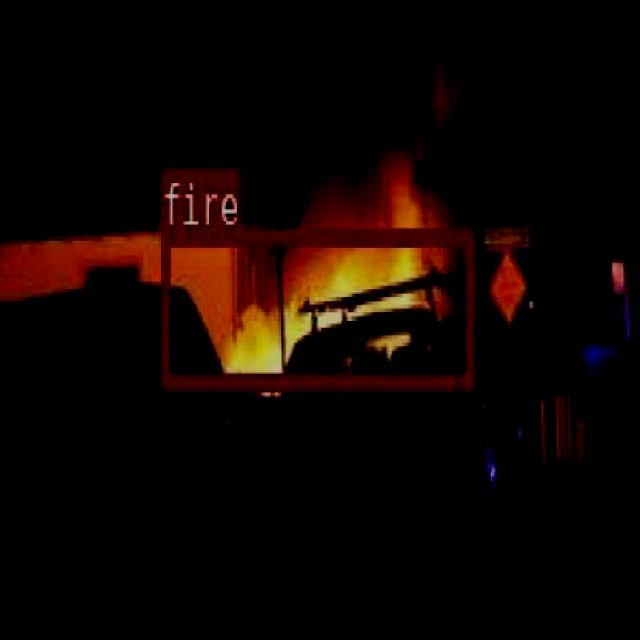fire: (159, 228, 473, 387)
